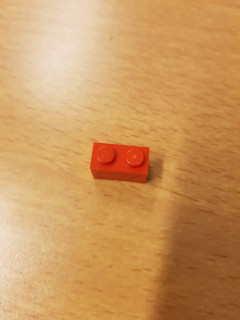1x2 red: (91, 139, 155, 189)
